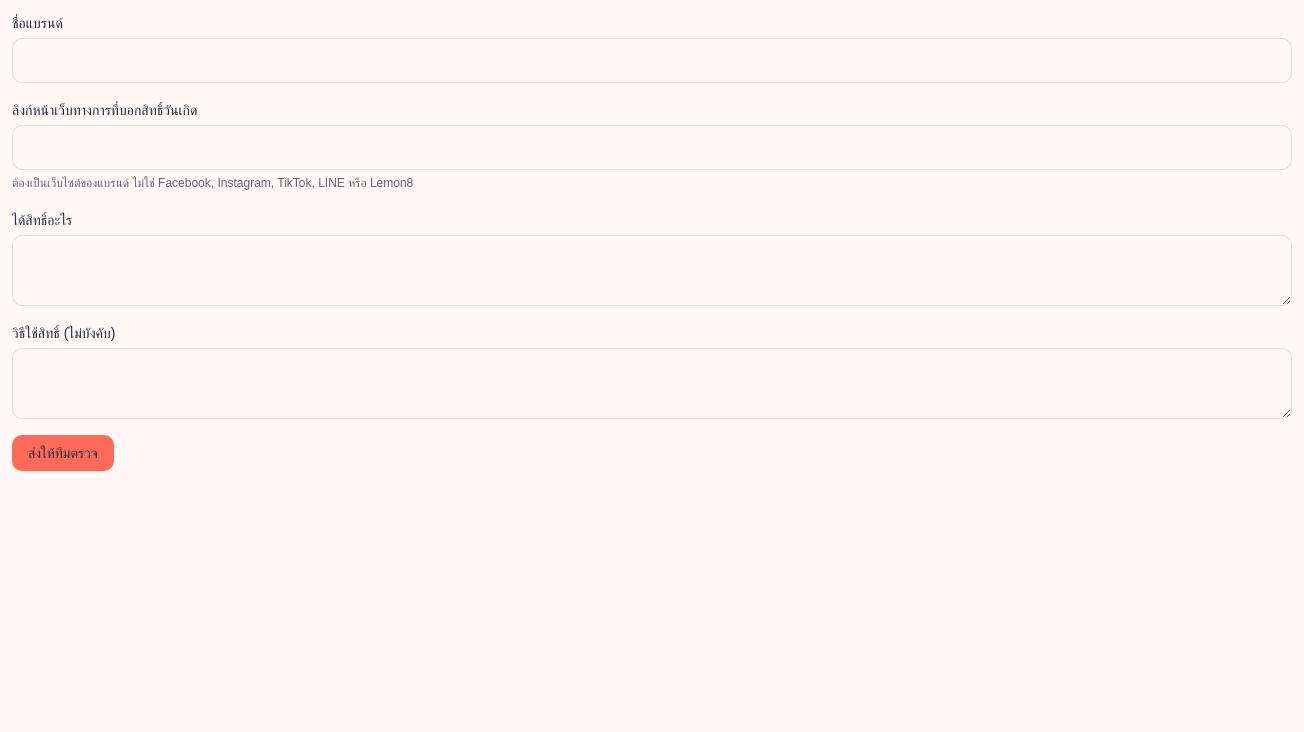
Test: SubmissionForm › ผล invalid แจ้ง error
Type "MK" into the field labelled "ชื่อแบรนด์". click: (652, 61)
box: [12,38,1292,83]
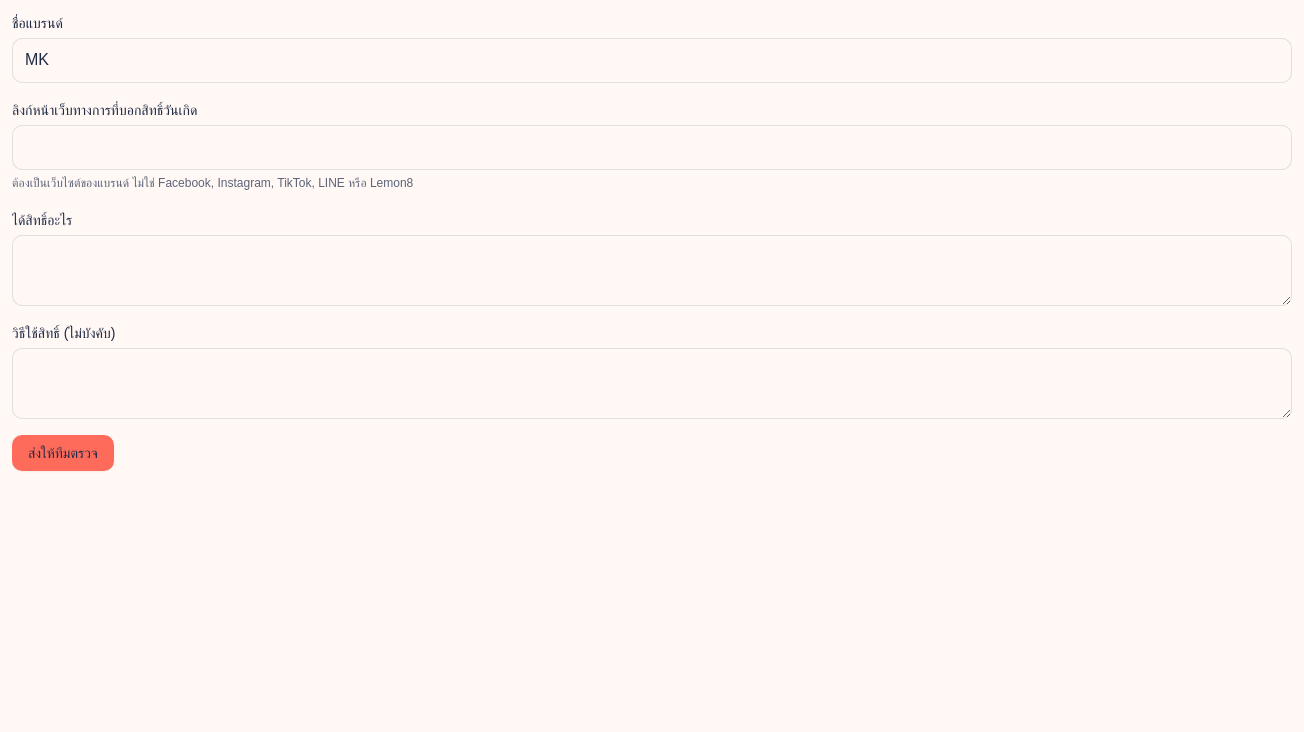
Type "https://www.mkrestaurant.com/member" into the field labelled "ลิงก์หน้าเว็บทางการที่บอกสิทธิ์วันเกิด". click: (652, 147)
box: [12,125,1292,170]
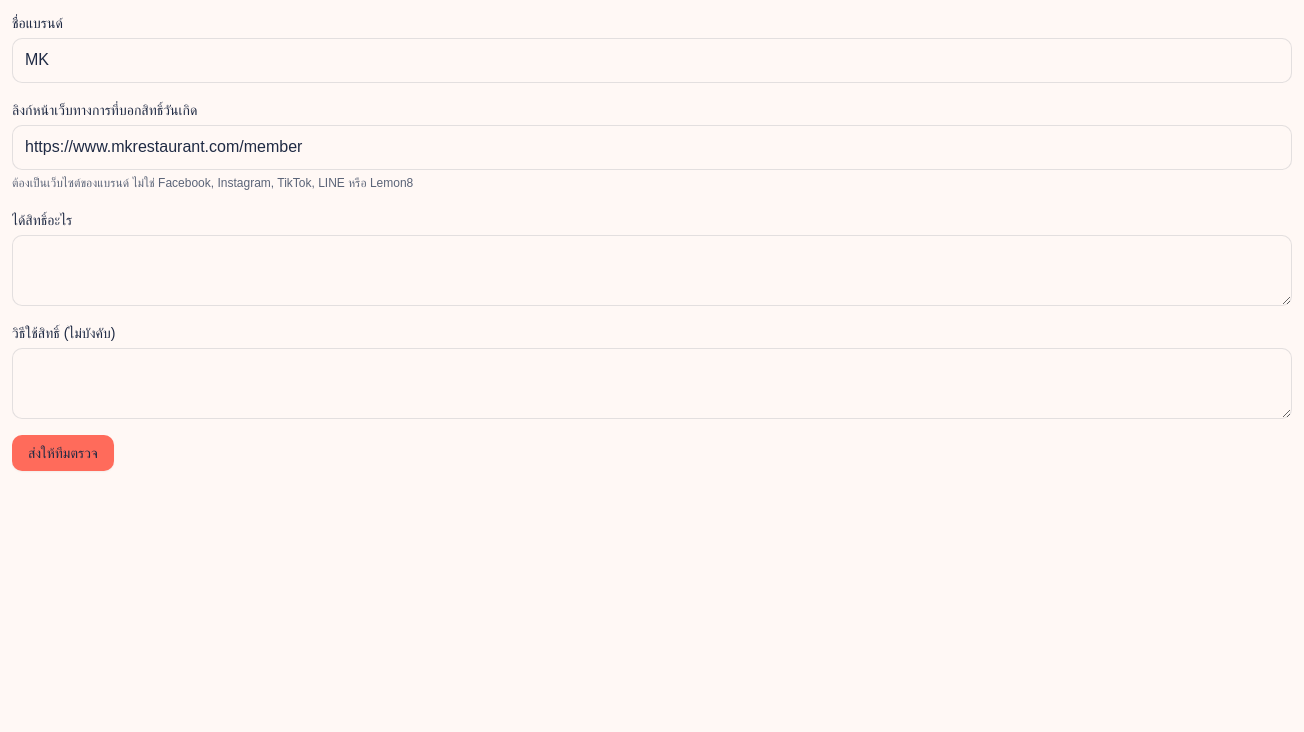
Type "เป็ดย่างฟรี" into the text box labelled "ได้สิทธิ์อะไร". click: (652, 270)
box: [12,235,1292,306]
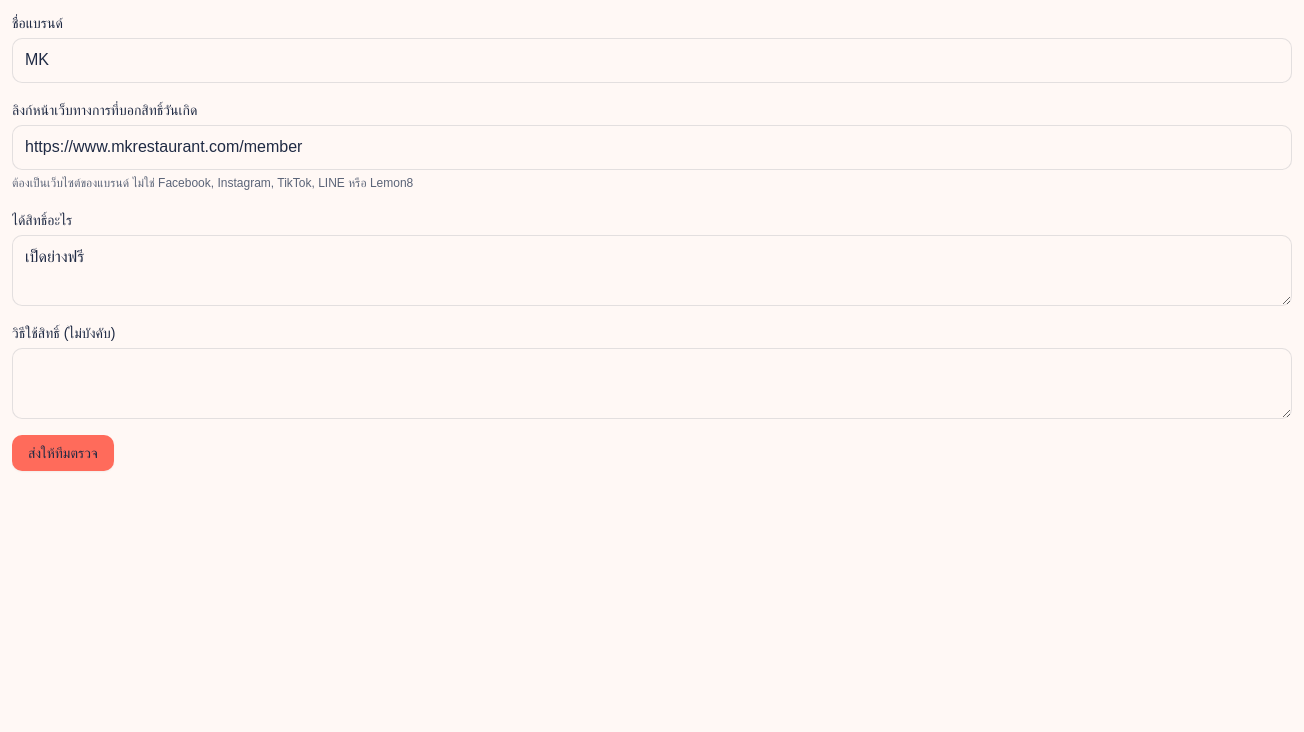
Click the button "ส่งให้ทีมตรวจ". click: click(63, 453)
box: [12,435,114,471]
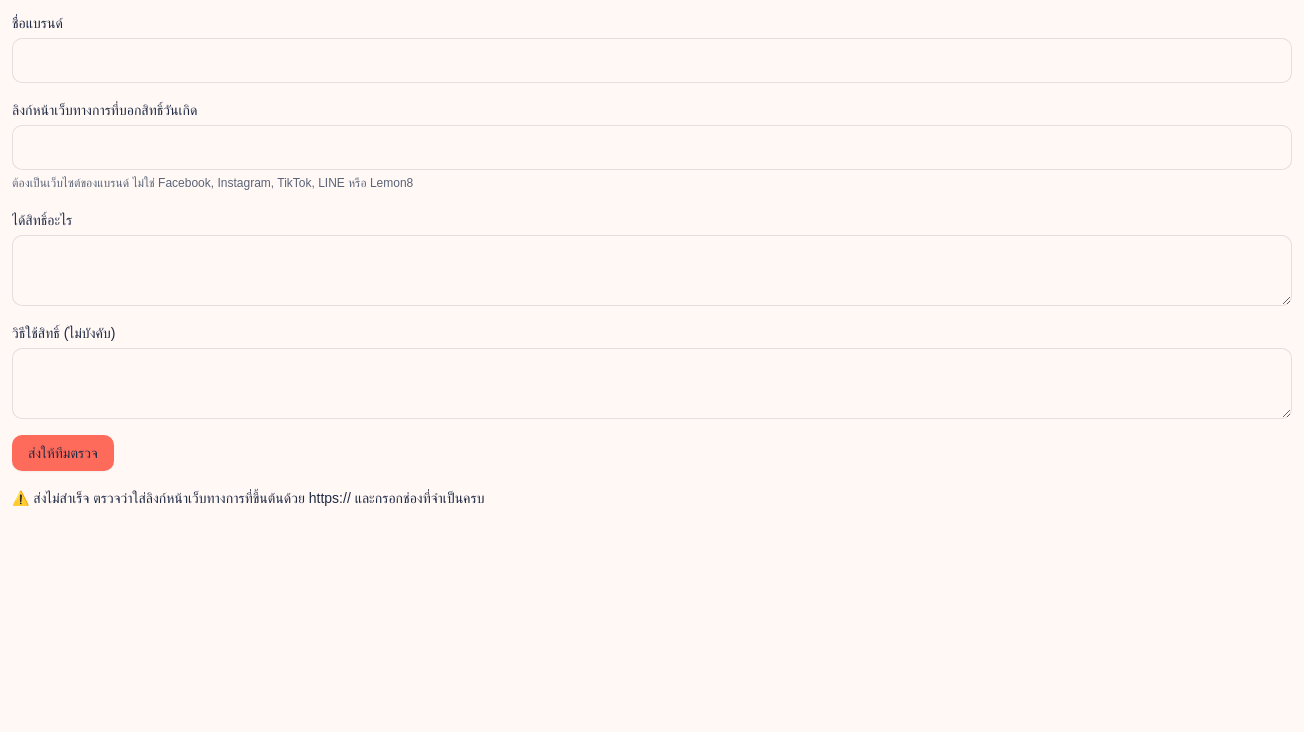
expect the message shows "ลิงก์หน้าเว็บทางการ": met, box [33,490,484,506]
